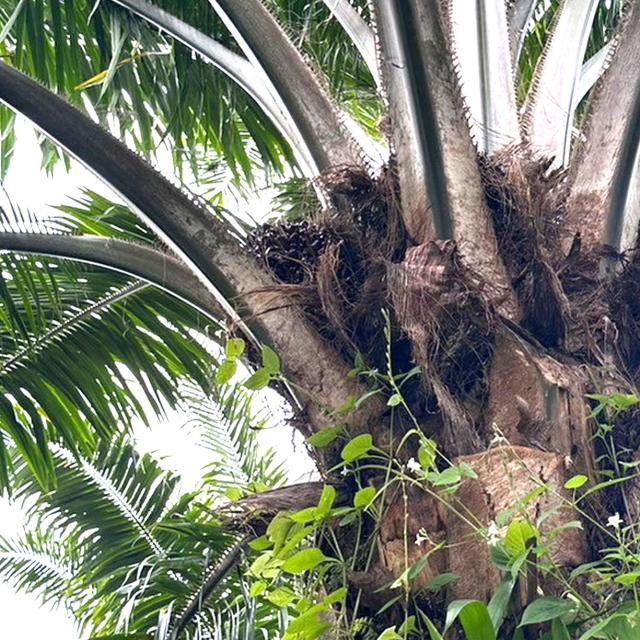ripe: (248, 204, 352, 295)
